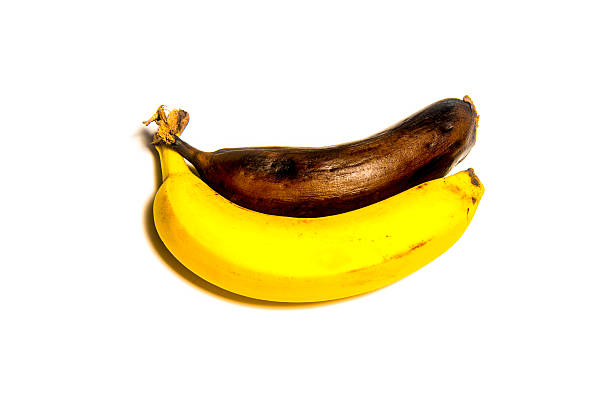fresh_banana: (151, 135, 485, 303)
rotten_banana: (145, 97, 478, 219)
